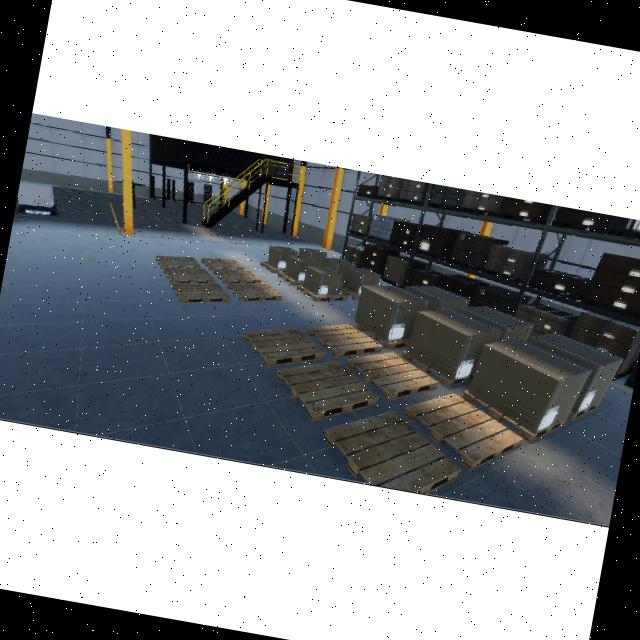wooden_pallet: (461, 389, 567, 442), (402, 350, 472, 387), (356, 323, 410, 350), (296, 284, 348, 301), (567, 402, 600, 421), (276, 271, 304, 286), (259, 261, 286, 273)
